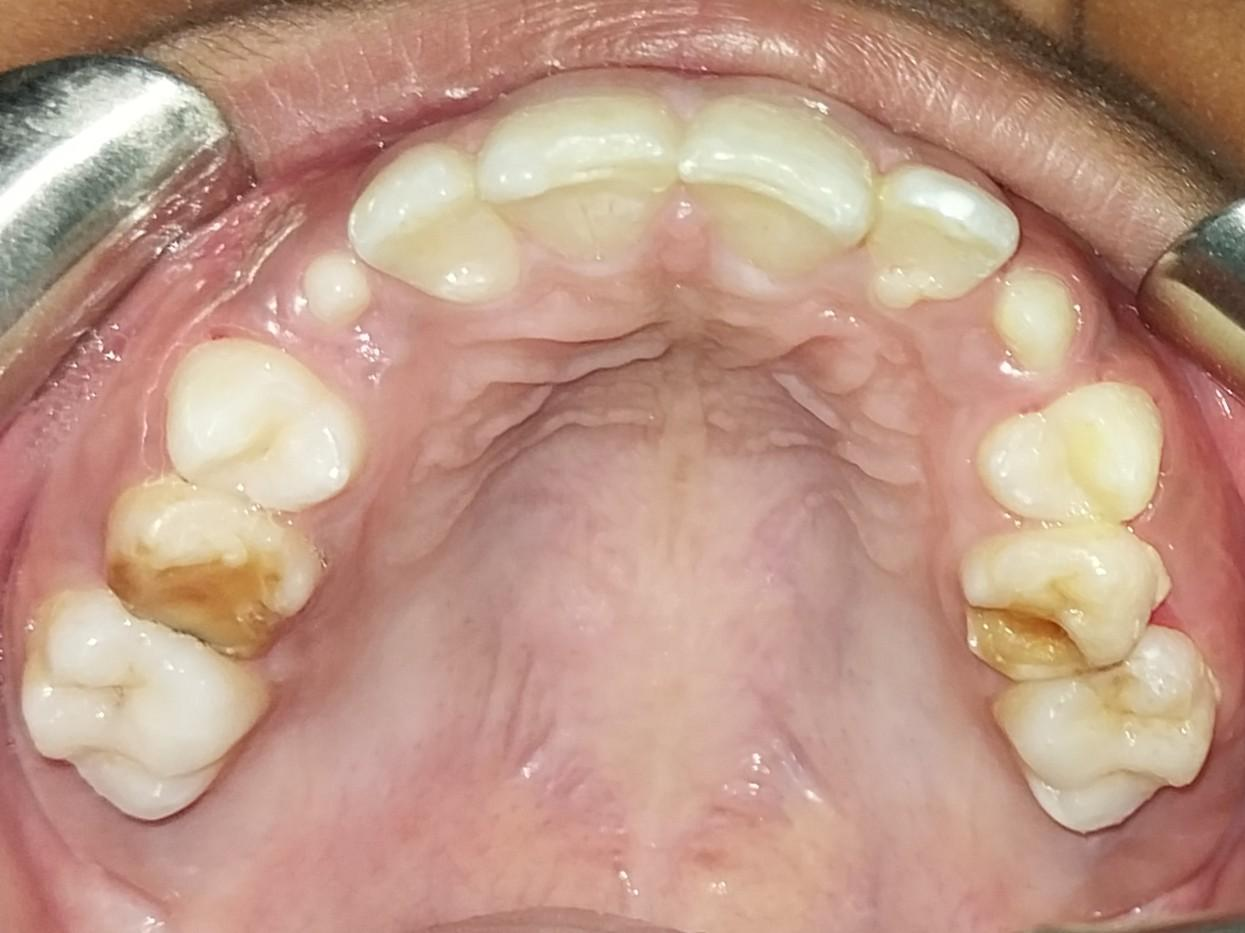d: (100, 487, 324, 660), (947, 528, 1174, 683)
